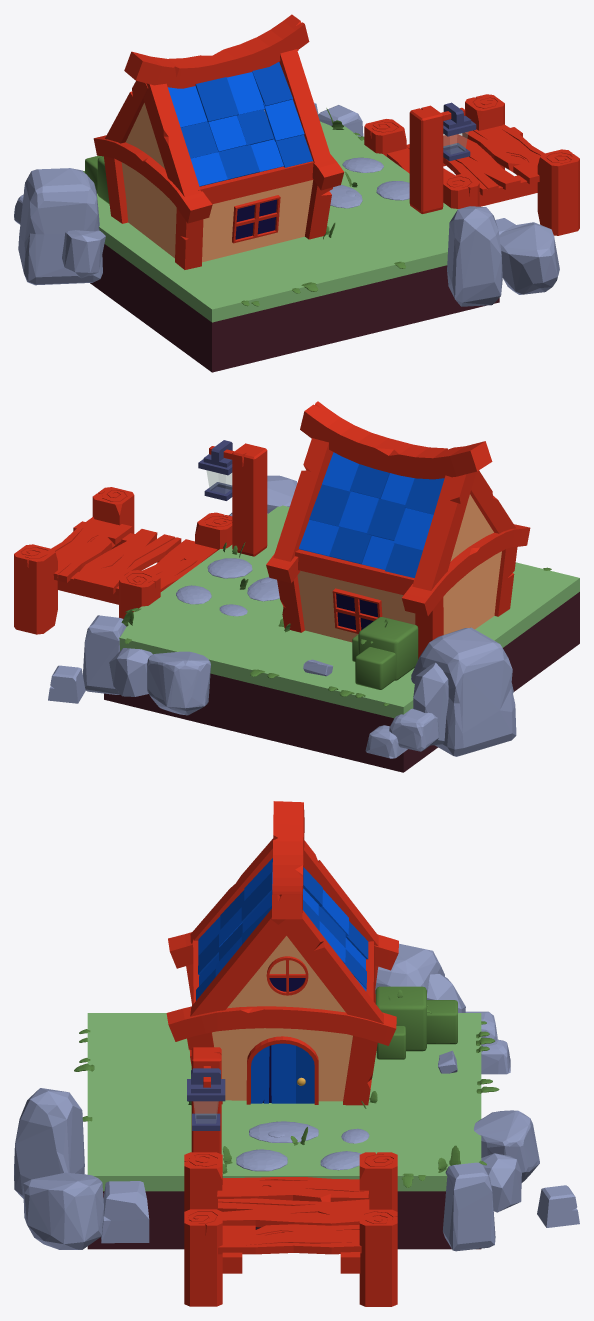
Rendered from casa.gltf.
The picture shows the model from 3 angles, top to bottom: view 1: azimuth 30°, elevation 25°; view 2: azimuth 150°, elevation 25°; view 3: azimuth 270°, elevation 25°; orthographic projection. The views are drawn at different scales.
Visible parts, largest first — view 1: Base; view 2: Base; view 3: Base.
Boxes of the visible parts, left/top/right/bottom form: Base: left=14, top=14, right=579, bottom=372; Base: left=14, top=401, right=579, bottom=772; Base: left=14, top=801, right=579, bottom=1306.
Bounding box in the file's own units: 21.34 × 10.61 × 18.69.
